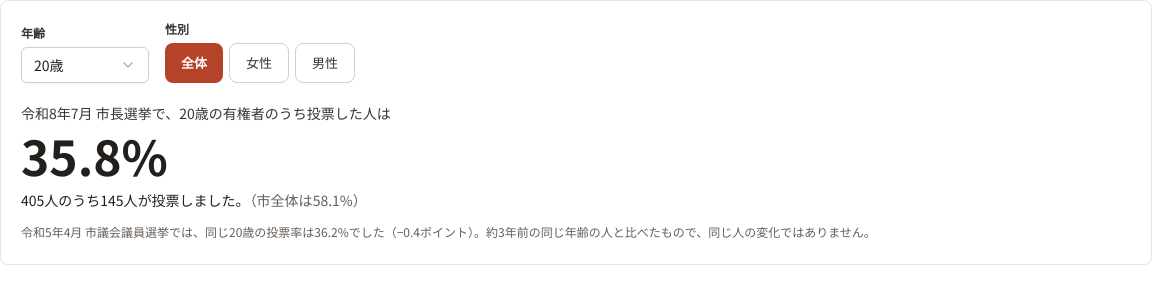
Scenario: AgeTurnoutExplorer › 「女性」を押すと女性の値に切り替わる
The image size is (1152, 282).
Step 1. Click the button "女性" → (259, 63), box 229,43 -> 289,83
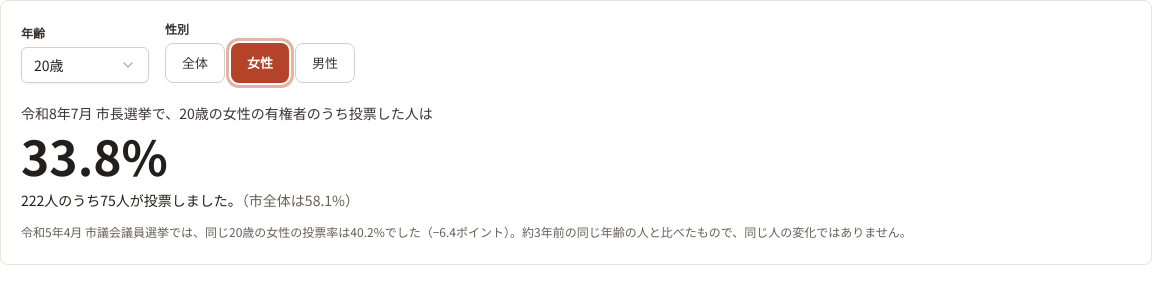
Result: the text "33.8%" is shown at 21,120 -> 168,190
Result: the text "222人のうち75人が投票しました。（市全体は58.1%）" is shown at 21,190 -> 359,210
Result: the text "同じ20歳の女性の投票率は40.2%" shows "−6.4ポイント" at 21,223 -> 912,240
